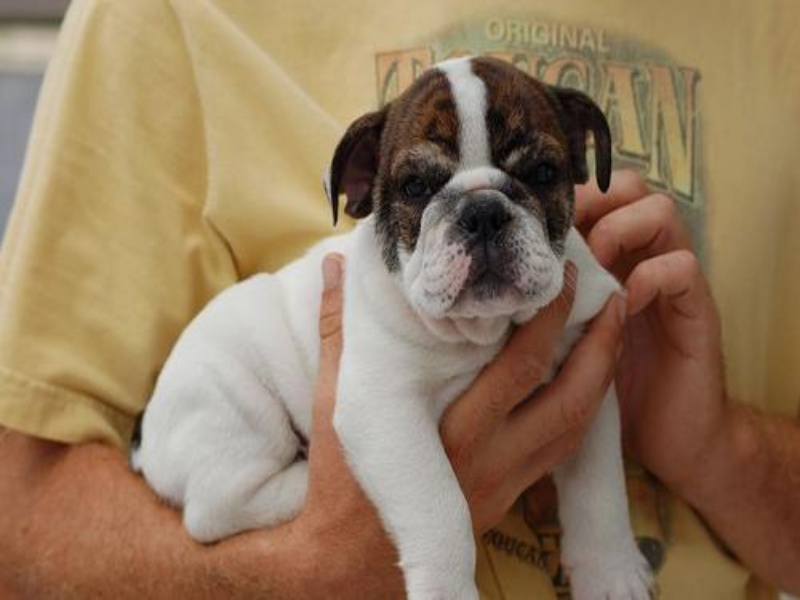hands: (313, 249, 628, 550), (573, 164, 800, 473)
